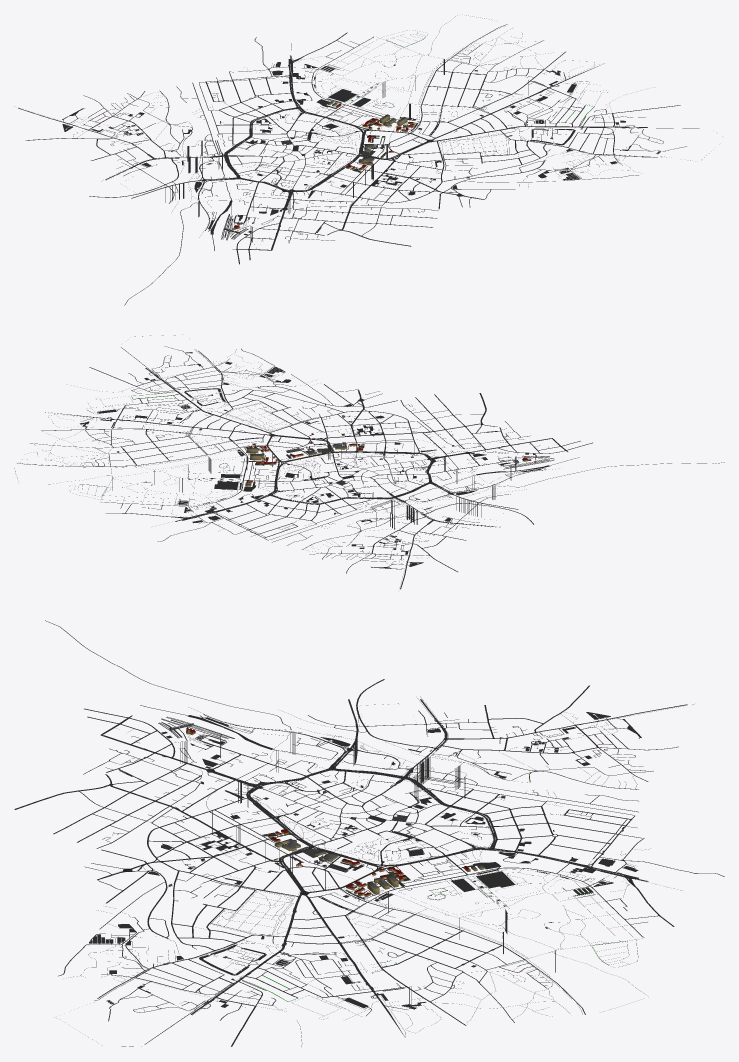
Rendered from THMCampus_gross.fbx.
The picture shows the model from 3 angles, top to bottom: view 1: azimuth 30°, elevation 25°; view 2: azimuth 150°, elevation 25°; view 3: azimuth 270°, elevation 25°; orthographic projection. The views are drawn at different scales.
Visible parts, largest first — view 1: Straßen, Parken, Gebäude, Brücken; view 2: Straßen, Parken, Gebäude, Brücken; view 3: Straßen, Parken, Gebäude, Brücken.
Part boxes in pixels (x1,y1,x2,y2): Straßen: [18, 15, 699, 305]; Parken: [62, 62, 660, 235]; Gebäude: [183, 40, 706, 229]; Brücken: [165, 59, 528, 242]; Straßen: [14, 346, 724, 589]; Parken: [80, 352, 549, 569]; Gebäude: [80, 335, 531, 521]; Brücken: [111, 430, 516, 529]; Straßen: [14, 620, 724, 1046]; Parken: [89, 712, 641, 1009]; Gebäude: [88, 703, 630, 1046]; Brücken: [180, 731, 555, 1008].
Size of the model in its own units: 4145 by 127 by 2917.
